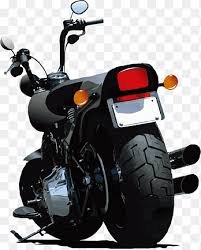motor: (1, 68, 179, 250)
